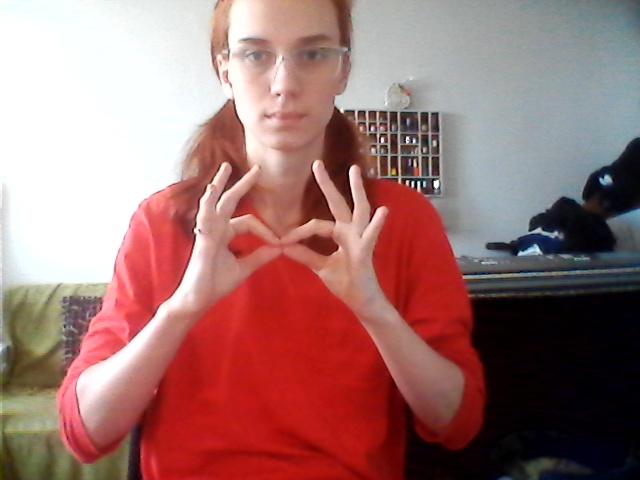b: (181, 155, 398, 316)
